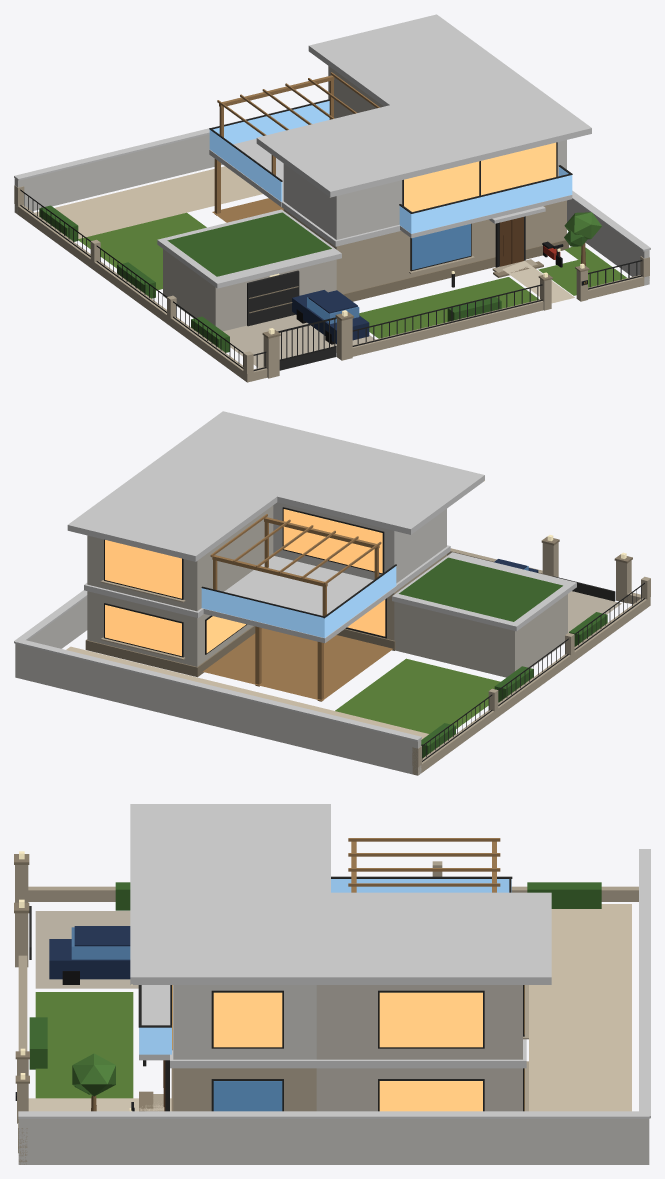
File: house-m2.glb
The picture shows the model from 3 angles, top to bottom: view 1: azimuth 30°, elevation 25°; view 2: azimuth 150°, elevation 25°; view 3: azimuth 270°, elevation 25°; orthographic projection. The views are drawn at different scales.
Size of the model in its own units: 22.08 by 6.8 by 22.22.
